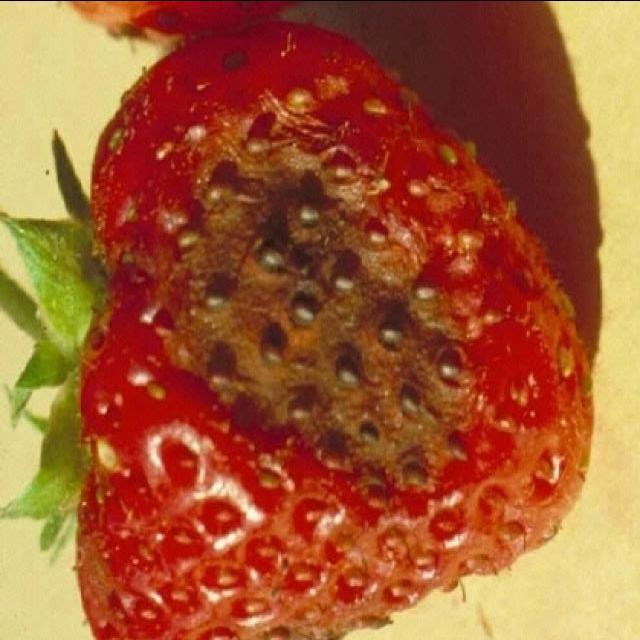Anthracnose Fruit Rot: (118, 78, 485, 526)
